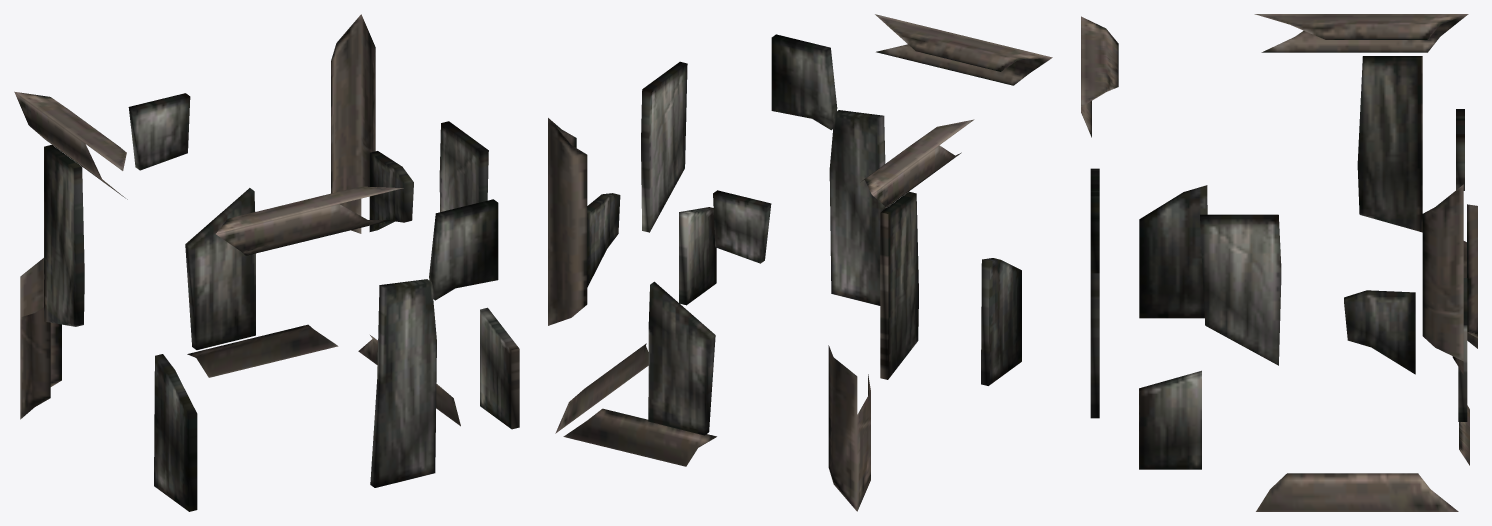
The model's file is INST_SWORDLIGHT_CRATE-DESTR_ANI.fbx.
3 renders of one model, left to right at view 1: azimuth 30°, elevation 25°; view 2: azimuth 150°, elevation 25°; view 3: azimuth 270°, elevation 25°, orthographic. The views are drawn at different scales.
Visible parts, largest first — view 1: INST_SWORDLIGHT_CRATE-DESTR_ANI; view 2: INST_SWORDLIGHT_CRATE-DESTR_ANI; view 3: INST_SWORDLIGHT_CRATE-DESTR_ANI.
Boxes of the visible parts, x1,y1,x2,y2 form: INST_SWORDLIGHT_CRATE-DESTR_ANI: [14, 14, 519, 511]; INST_SWORDLIGHT_CRATE-DESTR_ANI: [548, 14, 1052, 511]; INST_SWORDLIGHT_CRATE-DESTR_ANI: [1081, 14, 1477, 511].
Bounding box in the file's own units: 7826 × 7352 × 7903.
2 materials, 2 textured.
